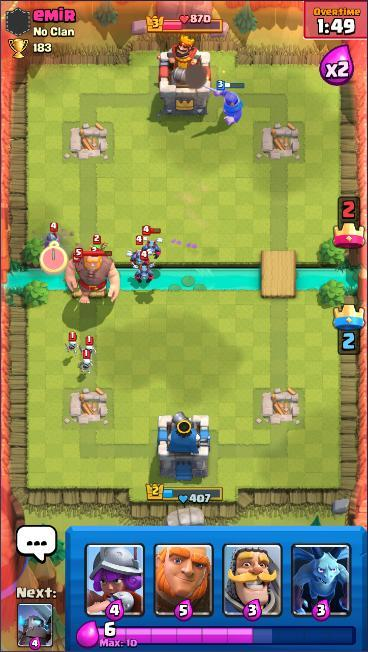ally_knight: (200, 78, 249, 130)
enemy_giant: (63, 246, 122, 305)
enemy_minion: (125, 235, 155, 270), (132, 249, 156, 287), (140, 224, 164, 261)
enemy_musketeer: (41, 221, 66, 261)
enemy_skeleton: (81, 333, 99, 363), (79, 349, 97, 376), (64, 330, 81, 358)
enemy_spear_goblin: (88, 233, 109, 263), (87, 245, 105, 273), (71, 250, 89, 277)
